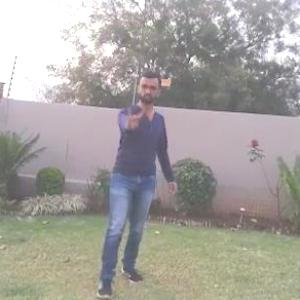takeoff-hand: (121, 104, 150, 136)
